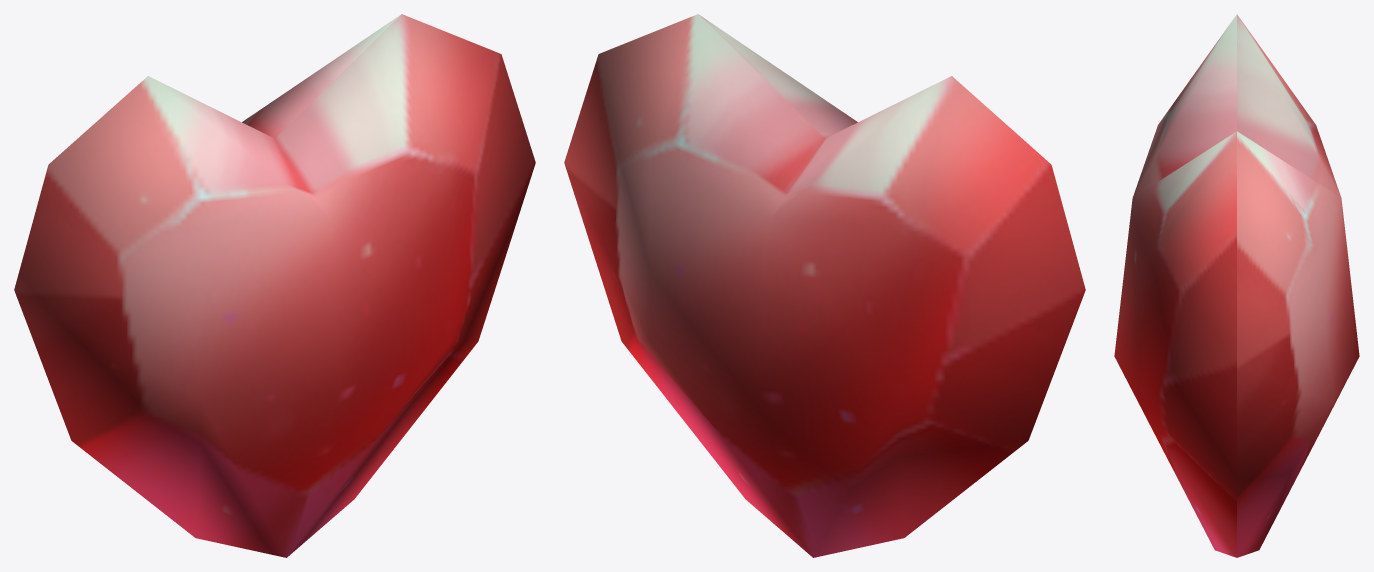
File: aixin.FBX
The picture shows the model from 3 angles, left to right: view 1: azimuth 30°, elevation 25°; view 2: azimuth 150°, elevation 25°; view 3: azimuth 270°, elevation 25°; orthographic projection. The views are drawn at different scales.
Parts seen in each view (by area): view 1: Object345; view 2: Object345; view 3: Object345.
Part boxes in pixels (left/top/right/bottom): Object345: left=14, top=14, right=535, bottom=557; Object345: left=564, top=14, right=1085, bottom=557; Object345: left=1114, top=14, right=1359, bottom=557.
Bounding box in the file's own units: 0.4829 × 0.2076 × 0.4462.
